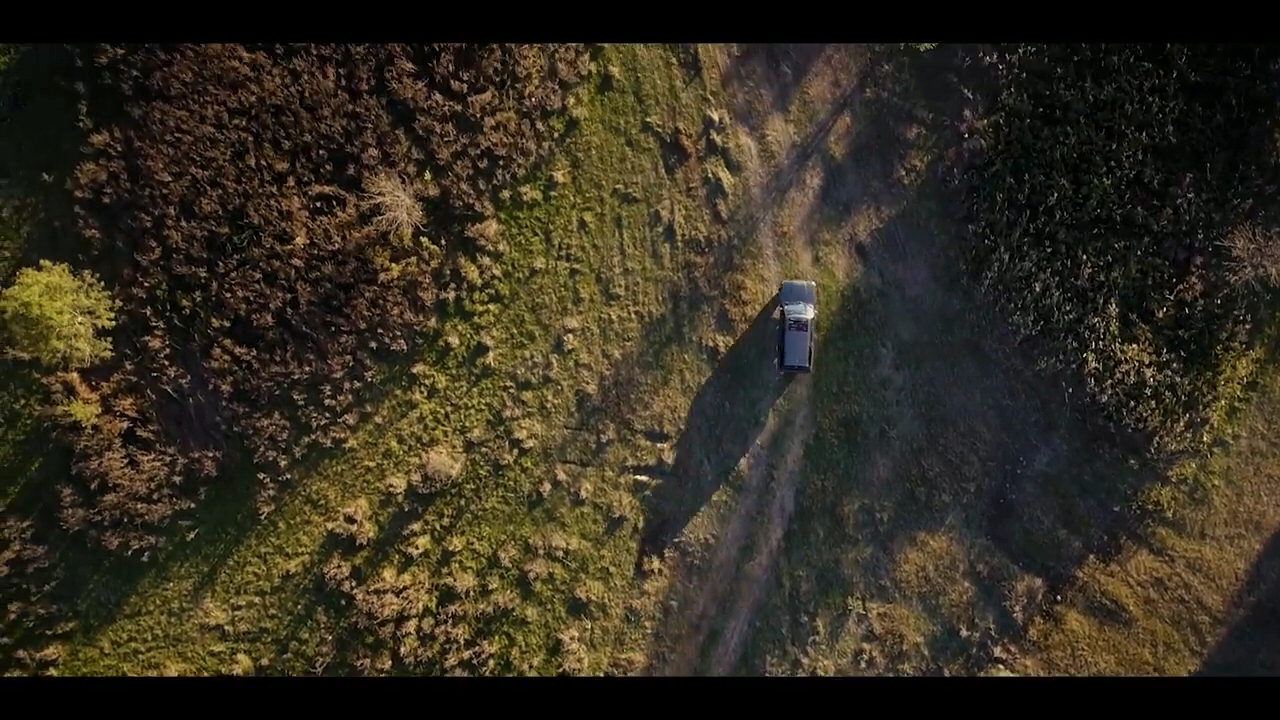araba: (776, 278, 820, 369)
